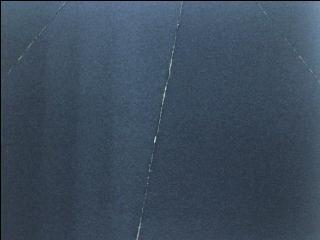crack: (129, 0, 191, 240), (0, 0, 73, 79), (255, 0, 320, 85)
